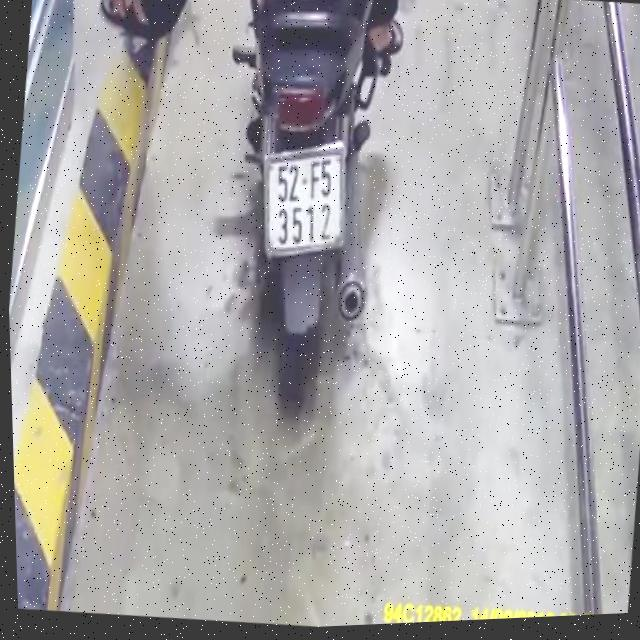motorcycle: (190, 0, 410, 413)
plate: (248, 138, 360, 266)
